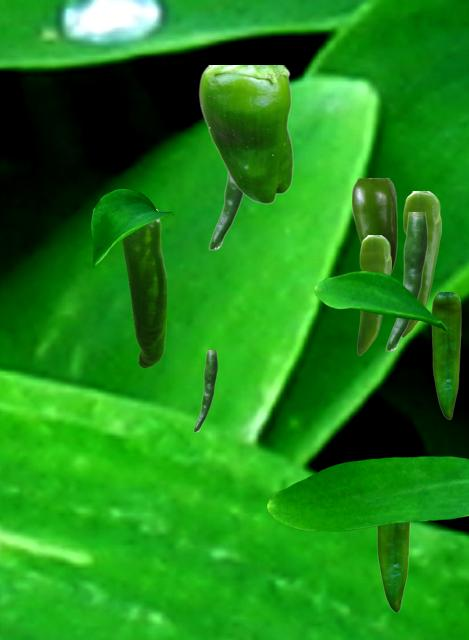green_chili: (198, 65, 292, 203), (122, 209, 165, 367), (385, 212, 426, 350), (402, 191, 440, 336), (352, 178, 396, 274), (357, 235, 390, 354), (431, 292, 460, 418), (376, 523, 410, 611), (208, 173, 243, 249), (193, 350, 216, 431)
